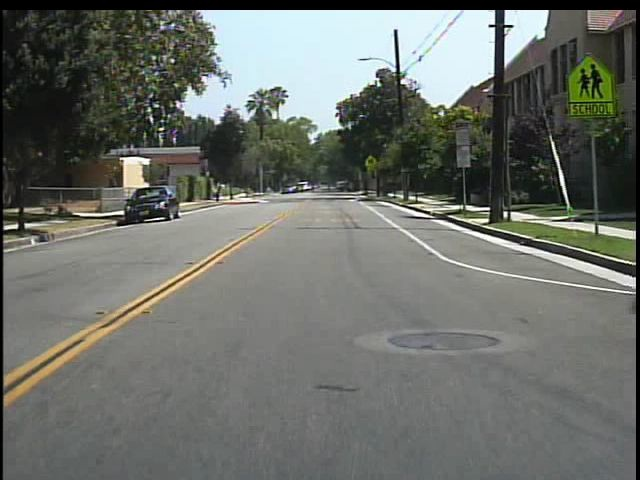person: (321, 178, 336, 196)
